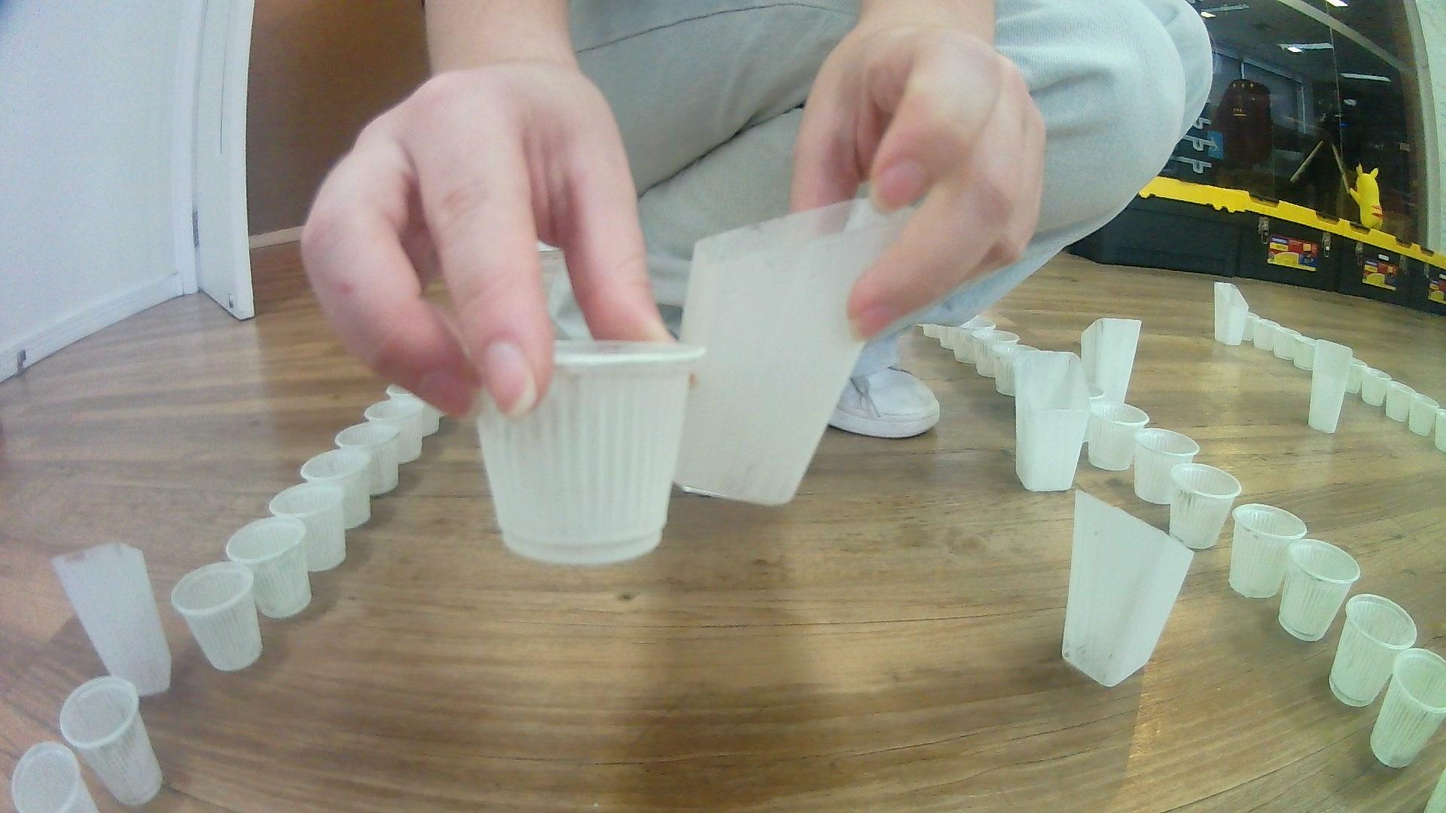erva_daninha: (667, 197, 915, 510), (1061, 489, 1193, 689), (52, 544, 175, 698), (1013, 350, 1091, 494), (1078, 316, 1143, 406), (1307, 339, 1355, 434), (1213, 280, 1249, 346)
planta: (476, 336, 706, 565), (58, 675, 163, 806), (169, 563, 264, 672), (1328, 593, 1417, 708), (1369, 647, 1446, 769), (224, 519, 312, 619), (1276, 540, 1362, 642), (1228, 504, 1309, 598), (267, 483, 348, 574), (9, 742, 105, 813), (1167, 463, 1243, 551), (299, 448, 373, 530), (1130, 428, 1201, 505), (334, 421, 401, 495), (1083, 401, 1152, 472), (364, 400, 425, 464), (385, 384, 443, 435), (994, 343, 1030, 396), (953, 327, 996, 364), (1383, 382, 1416, 424), (975, 337, 1007, 378), (1407, 395, 1438, 437), (1361, 368, 1391, 407), (1072, 382, 1106, 416), (1271, 324, 1301, 361), (1249, 315, 1279, 351), (1344, 356, 1369, 394), (1292, 335, 1319, 370), (938, 323, 969, 349), (965, 312, 998, 331), (1433, 410, 1446, 452), (921, 323, 943, 340)
